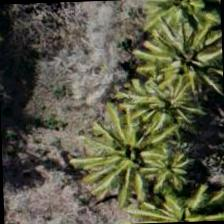Kelapa_Sawit: (108, 115, 200, 208), (140, 8, 224, 101)
